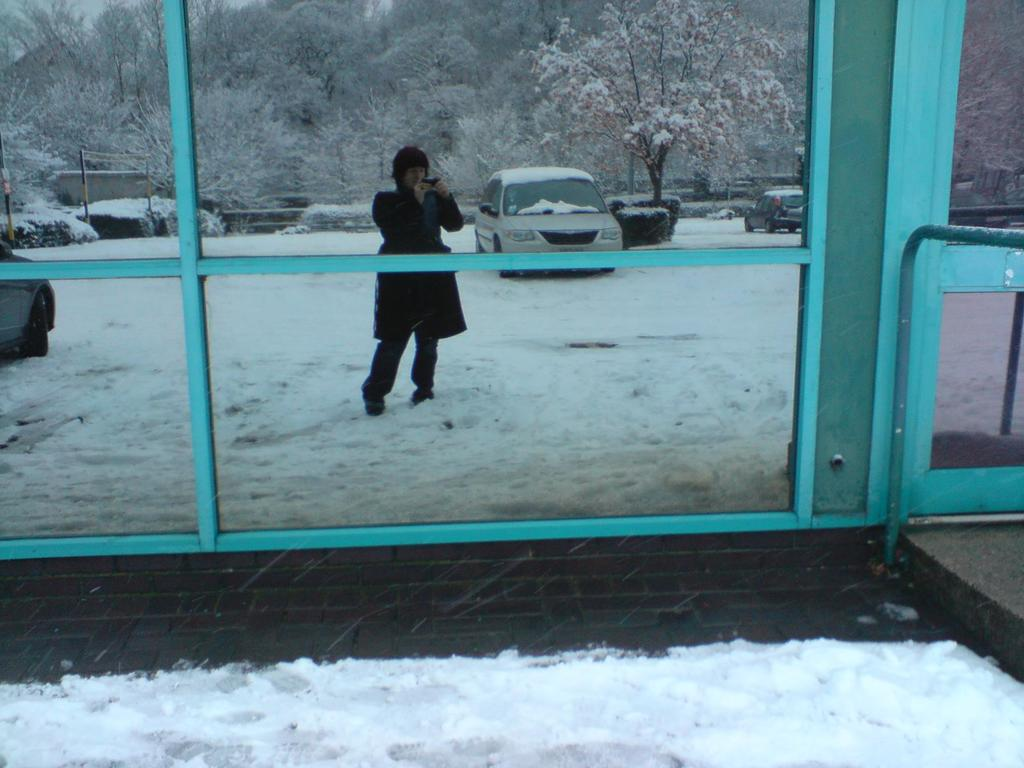Car: (475, 168, 618, 275), (0, 240, 51, 350), (742, 188, 801, 231)
